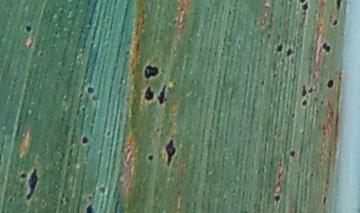tarspot: (26, 170, 38, 201), (165, 138, 177, 164), (145, 64, 158, 78), (158, 84, 166, 105), (321, 41, 332, 53), (145, 86, 153, 101), (85, 203, 95, 213), (326, 78, 335, 89), (301, 84, 307, 98), (98, 185, 106, 195), (276, 43, 284, 53), (289, 149, 297, 159), (273, 194, 281, 203), (25, 24, 32, 33), (82, 136, 89, 145), (302, 3, 309, 12), (286, 48, 292, 58), (336, 1, 342, 11), (332, 18, 338, 28), (307, 86, 314, 94), (88, 86, 94, 95), (321, 195, 327, 204), (147, 154, 154, 161), (19, 172, 27, 178), (301, 99, 307, 107), (259, 78, 265, 86), (87, 195, 93, 202), (81, 106, 87, 112), (106, 131, 111, 137), (298, 1, 306, 4)
